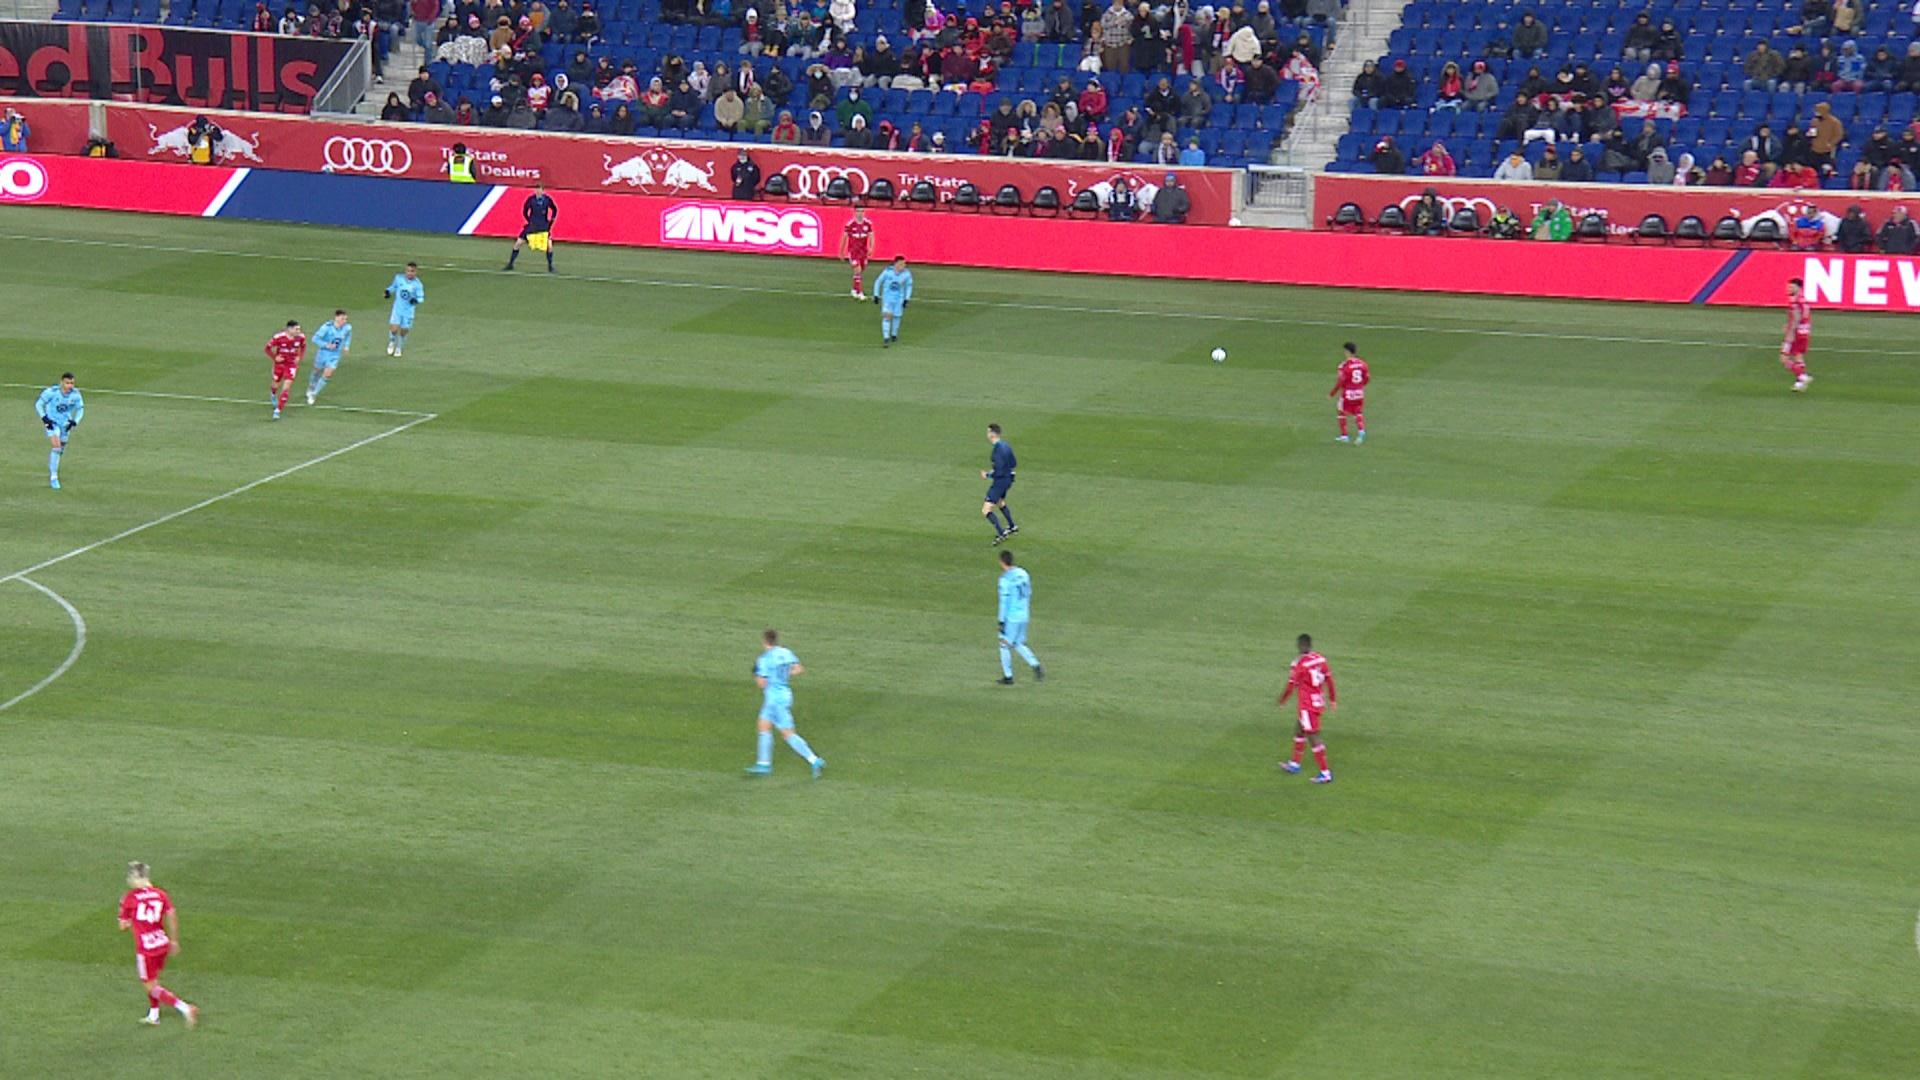football: (1211, 347, 1226, 364)
